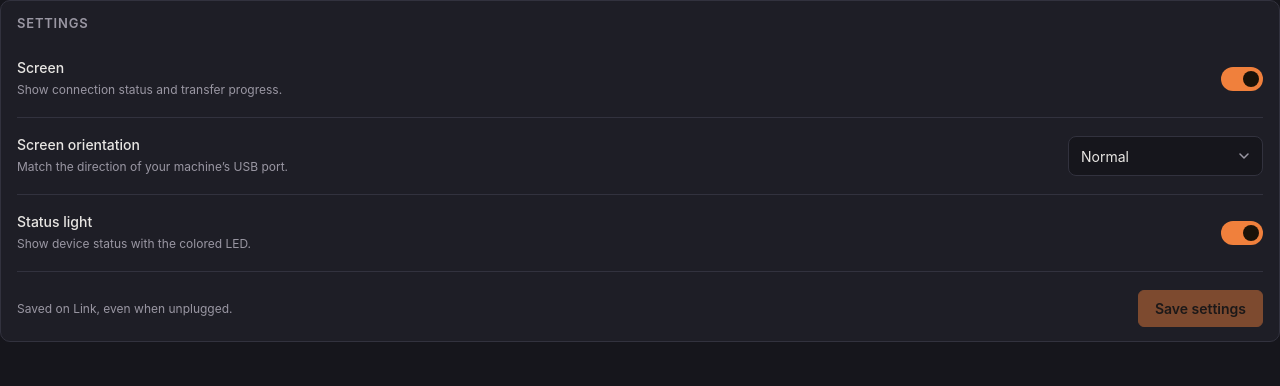
Test: first Status light on edit survives settings initialization
Click the switch named "Status light on".
click(1242, 233)  # box [1221,221,1263,245]
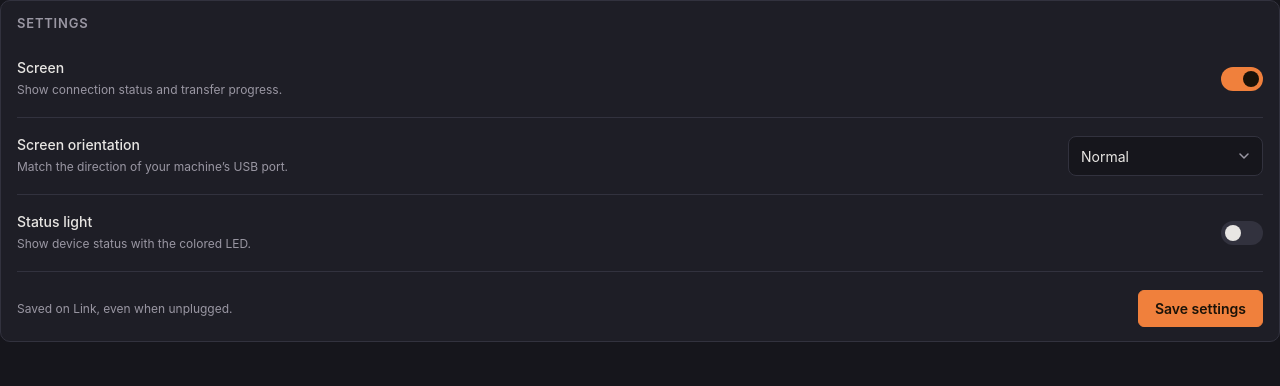
Now the button "Save settings" is enabled
Click the button "Save settings".
click(1200, 308)  # box [1138,290,1263,327]
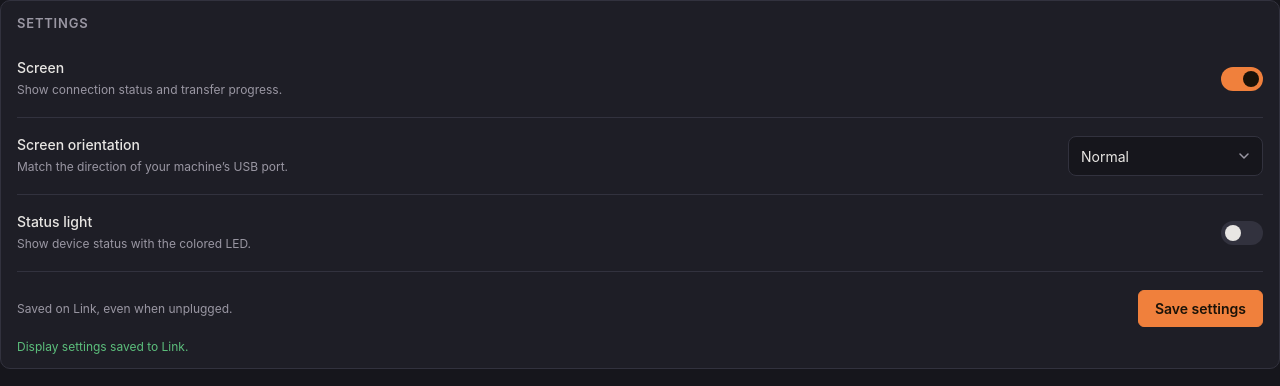
Now the text "Display settings saved to Link." is shown, box [17,339,188,354]
